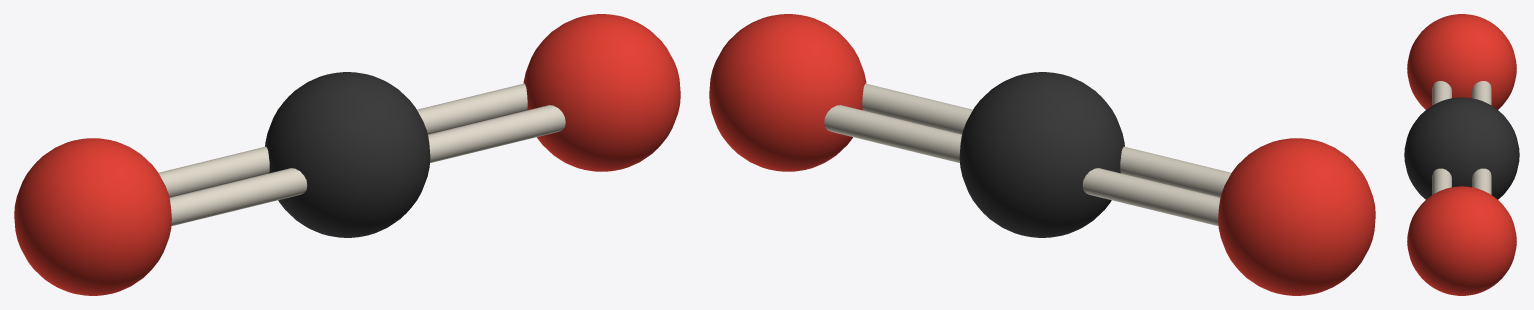
3 renders of one model, left to right at view 1: azimuth 30°, elevation 25°; view 2: azimuth 150°, elevation 25°; view 3: azimuth 270°, elevation 25°, orthographic. The views are drawn at different scales.
Parts seen in each view (by area): view 1: C_1, O_0, O_2, bond_0, bond_1; view 2: C_1, O_0, O_2, bond_0, bond_1; view 3: O_2, C_1, O_0, bond_1, bond_0.
Boxes of the visible parts, x1,y1,x2,y2 form: C_1: (265,72,430,237); O_0: (14,138,171,295); O_2: (523,14,680,171); bond_0: (158,146,307,226); bond_1: (417,83,565,162); C_1: (959,72,1124,237); O_0: (1218,138,1375,295); O_2: (709,14,866,171); bond_0: (1082,146,1231,226); bond_1: (824,83,972,162); O_2: (1407,186,1516,295); C_1: (1404,97,1519,199); O_0: (1407,14,1516,109); bond_1: (1432,168,1491,194); bond_0: (1432,81,1491,105).
Bounding box in the file's own units: 0.736 × 0.164 × 0.164.
